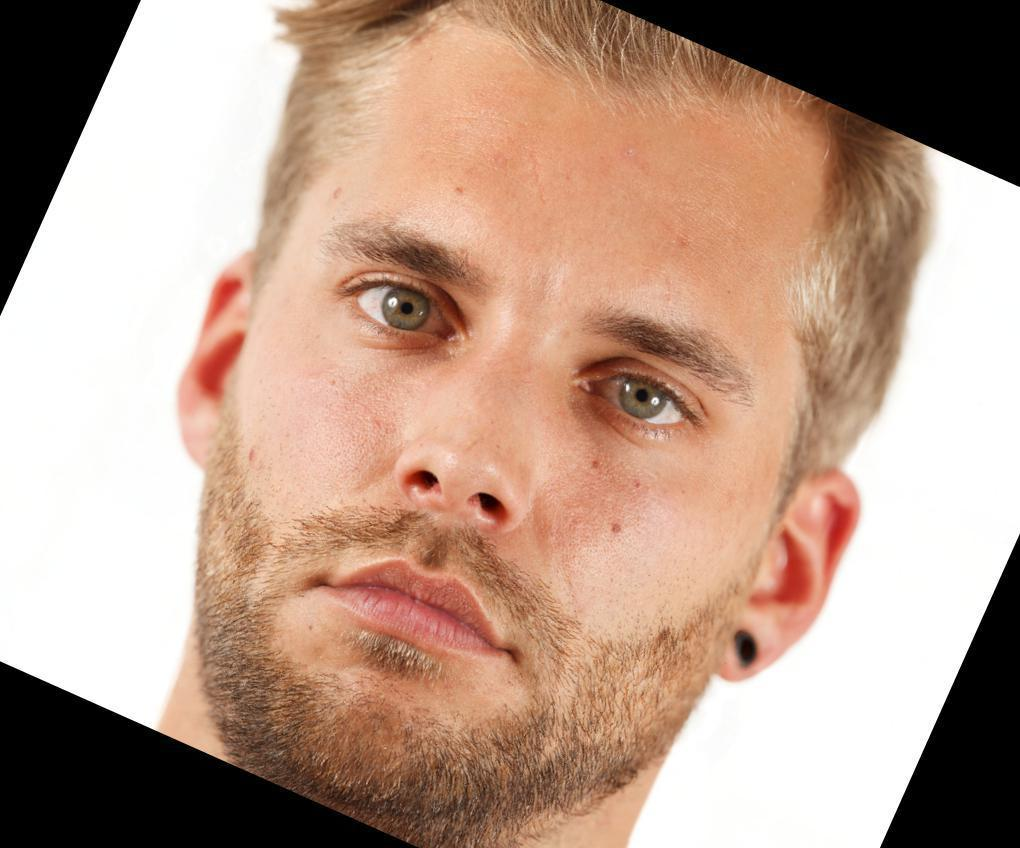Sober: (256, 68, 815, 683)
